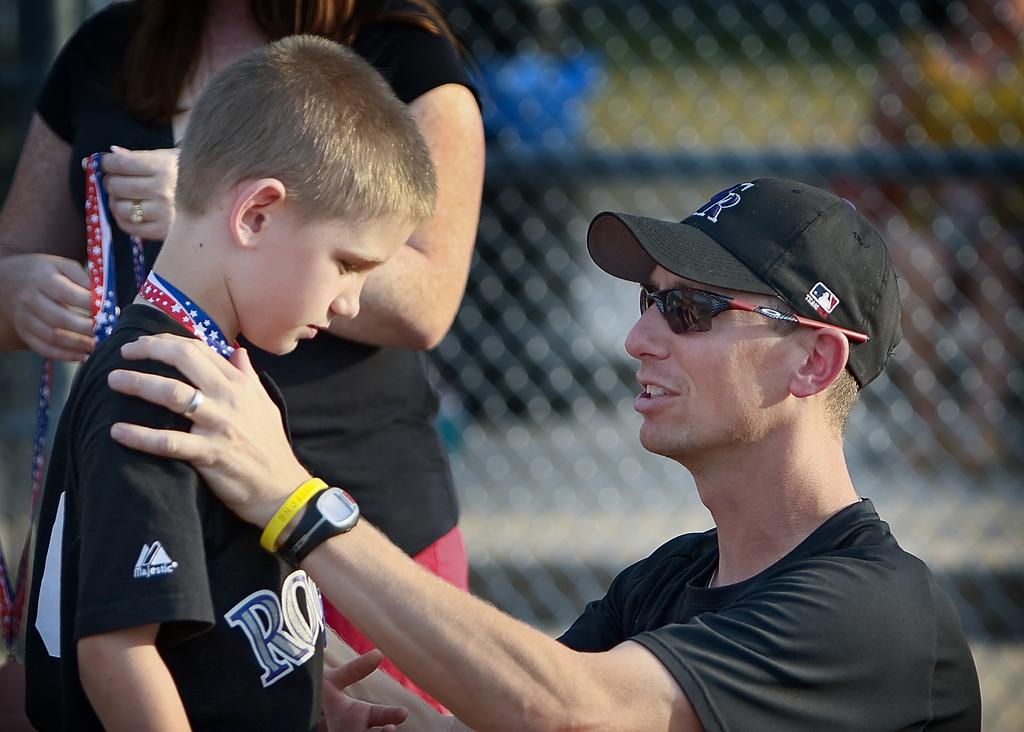Hat: (586, 172, 904, 390)
